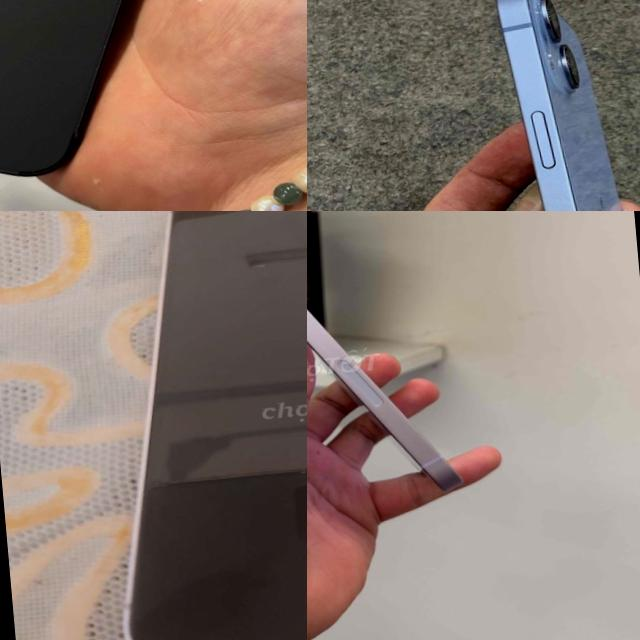gen_12_13: (79, 211, 307, 640), (0, 0, 249, 207)
gen_14: (490, 0, 640, 211), (307, 310, 462, 489)
